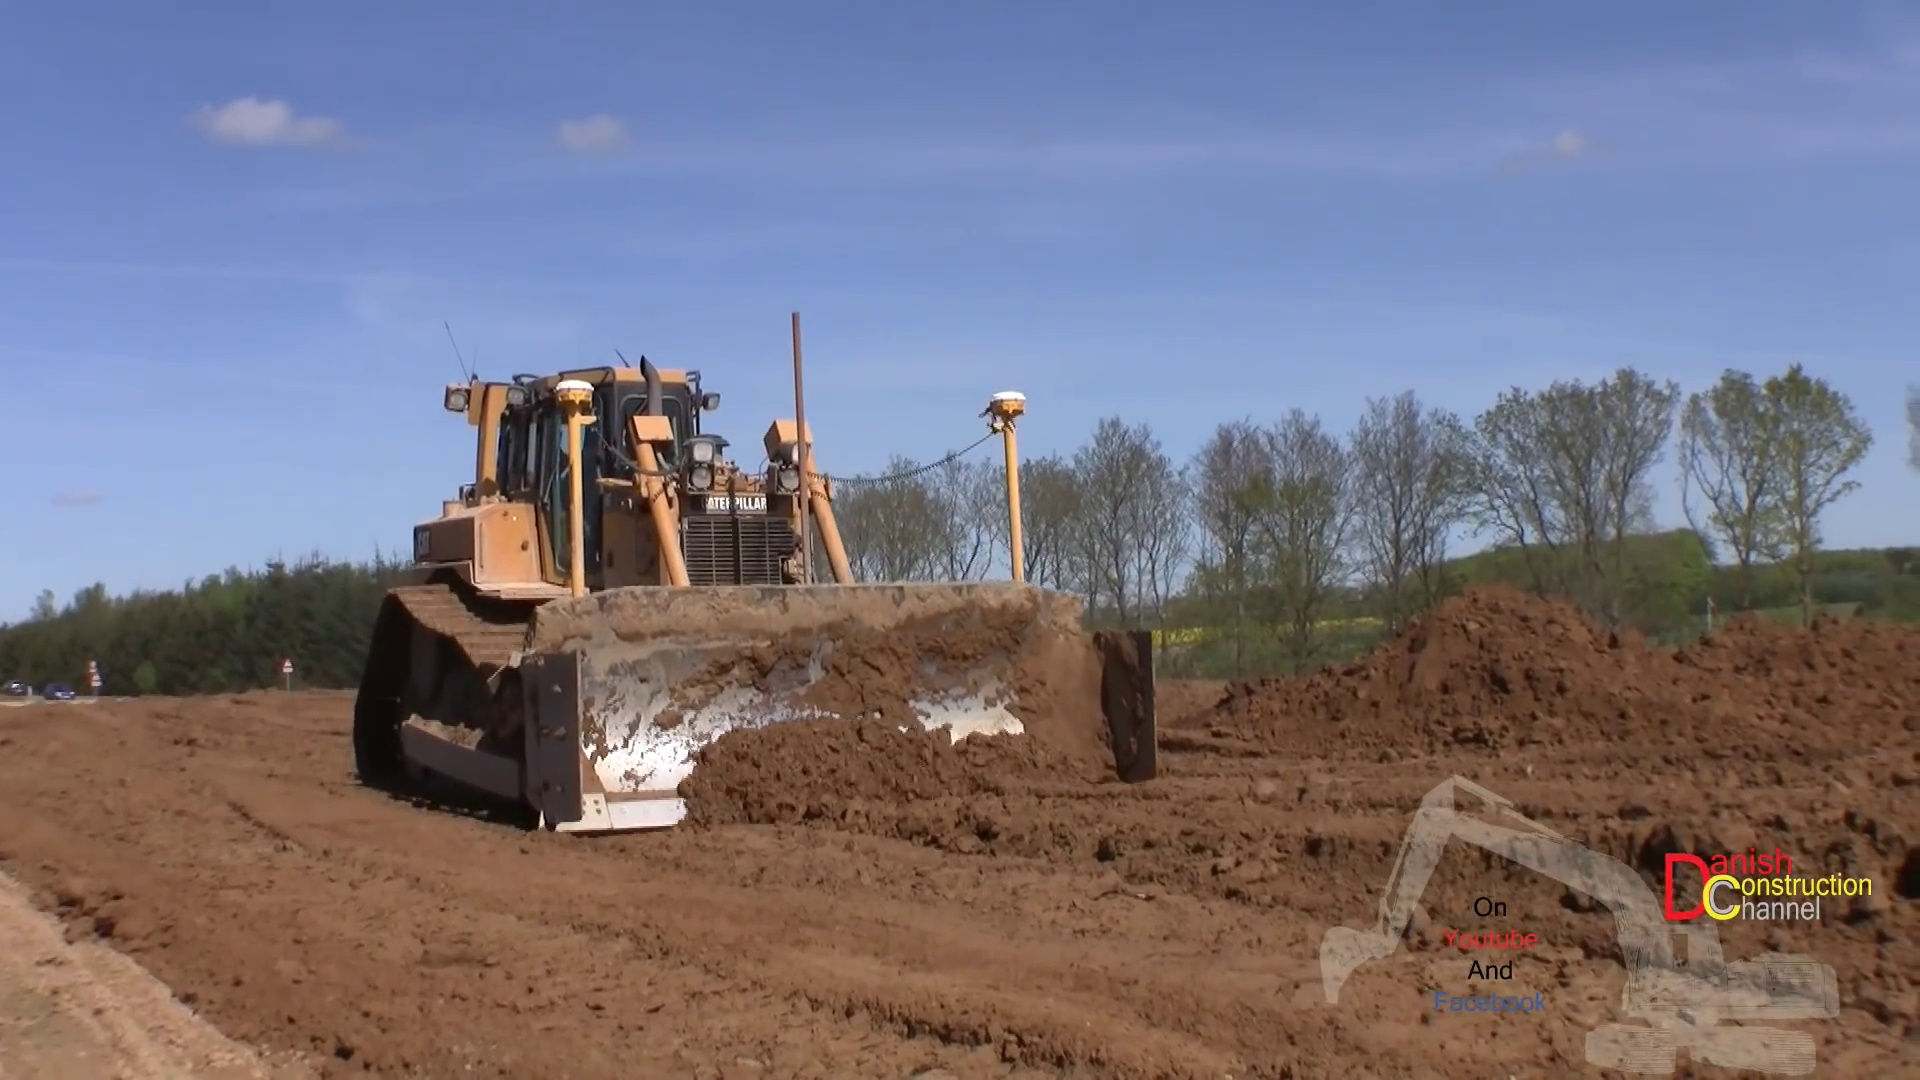bulldozer: (356, 356, 1162, 828)
